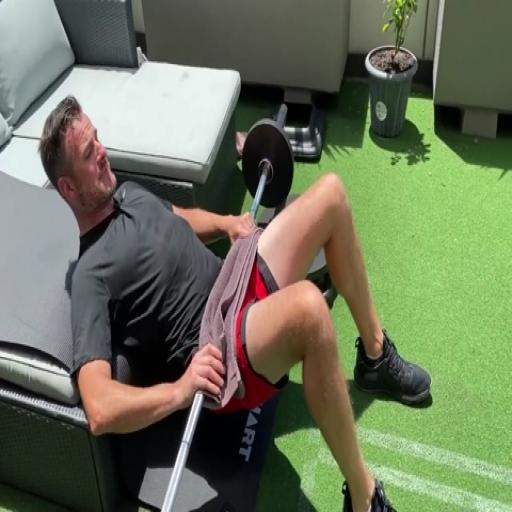exercise: (36, 92, 434, 510)
